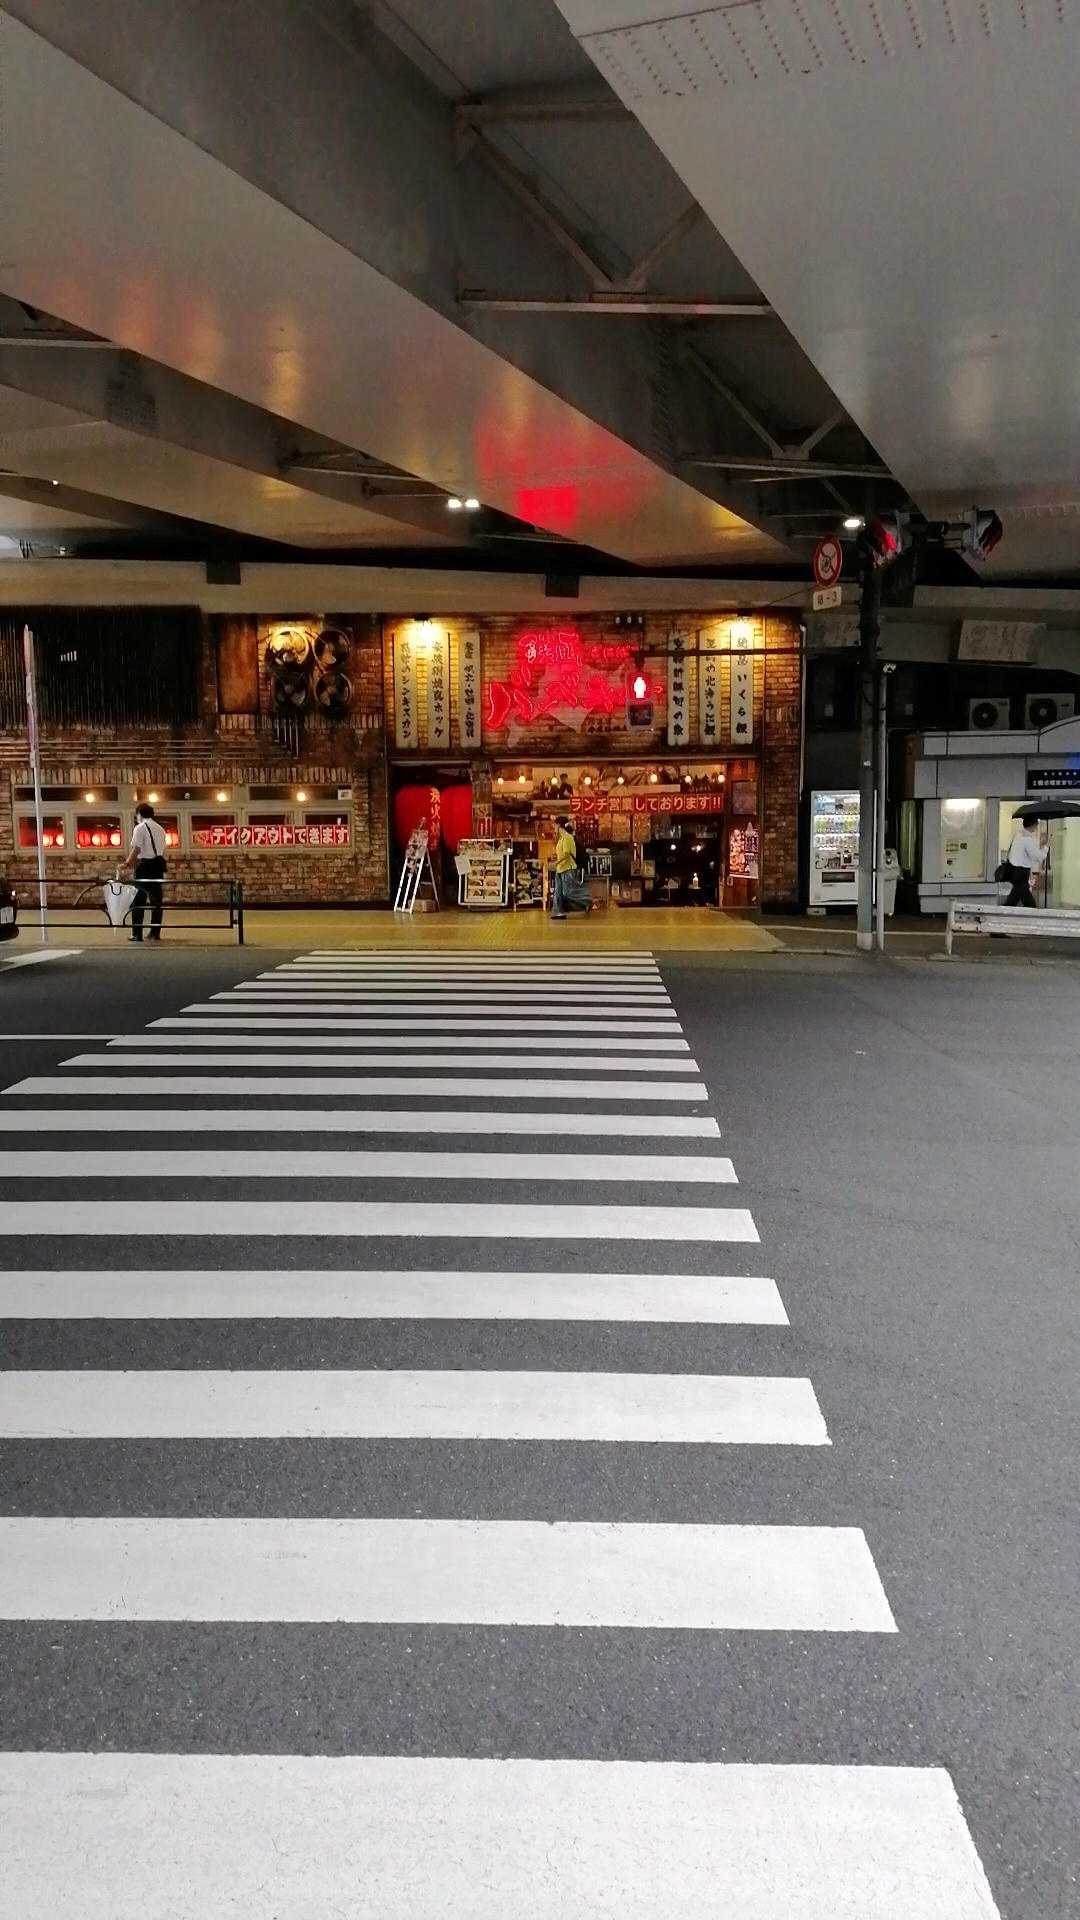red: (625, 671, 655, 731)
